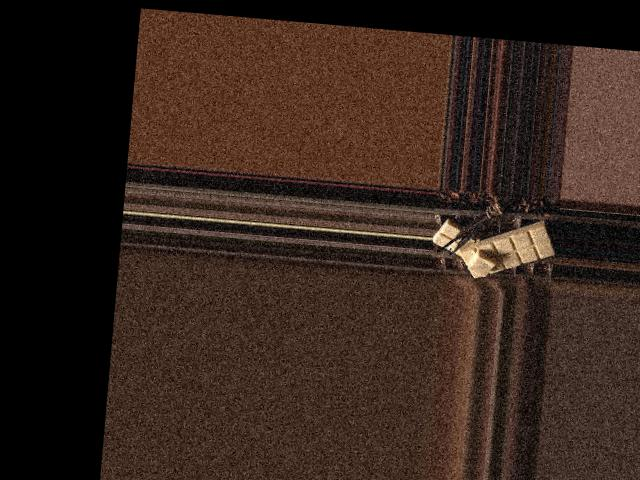chocolate: (454, 215, 556, 284)
